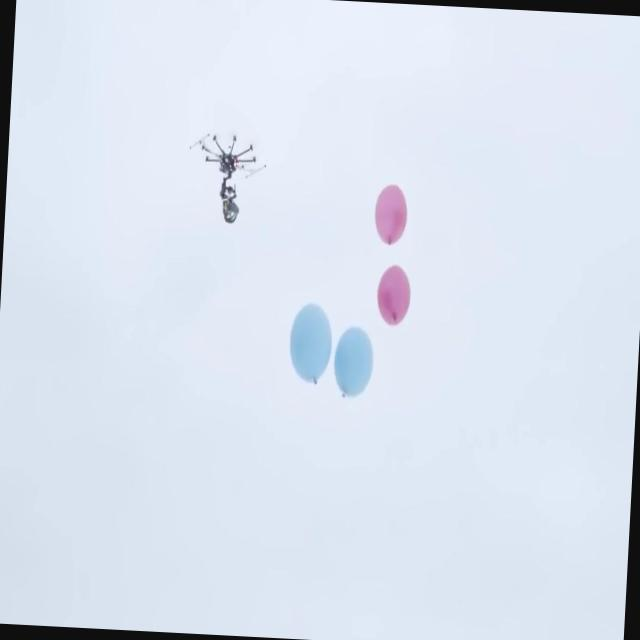drone: (187, 129, 269, 230)
